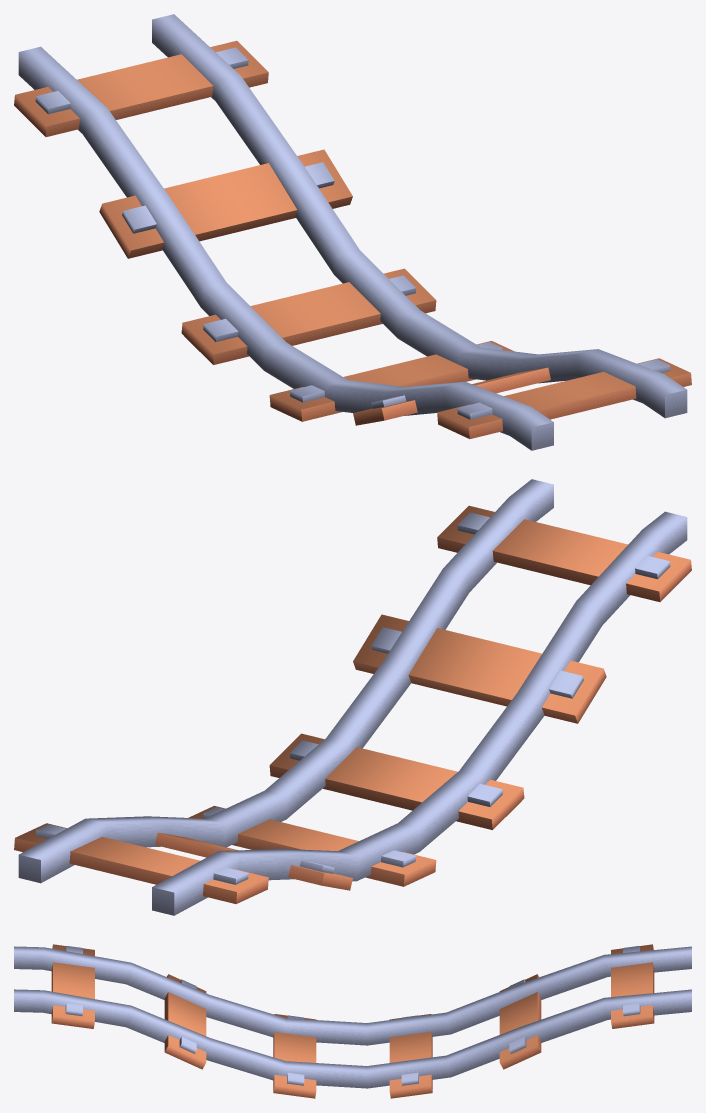
Rendered from railroad-straight-bump-down.glb.
The picture shows the model from 3 angles, top to bottom: view 1: azimuth 30°, elevation 25°; view 2: azimuth 150°, elevation 25°; view 3: azimuth 270°, elevation 25°; orthographic projection. The views are drawn at different scales.
Parts seen in each view (by area): view 1: railroad-straight-bump-down; view 2: railroad-straight-bump-down; view 3: railroad-straight-bump-down.
Part boxes in pixels (x1,y1,x2,y2): railroad-straight-bump-down: (14,14,691,450); railroad-straight-bump-down: (14,479,691,915); railroad-straight-bump-down: (14,944,691,1098).
Bounding box in the file's own units: 1 × 0.5986 × 4.
1 material, 1 textured.
